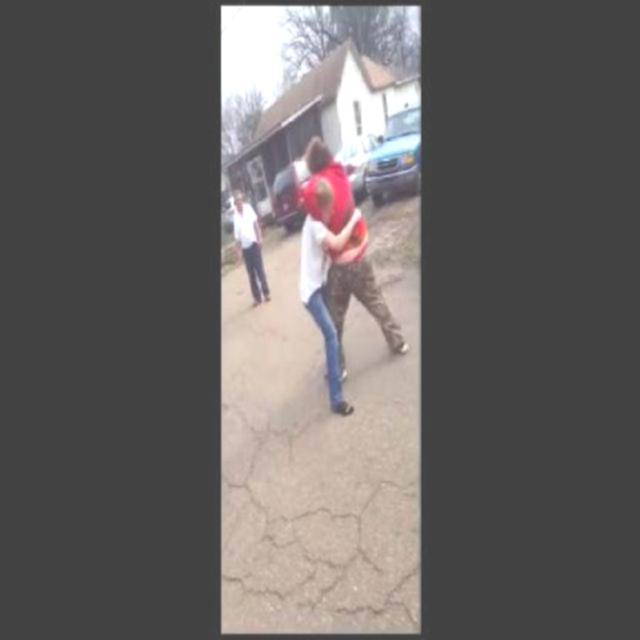fight: (294, 140, 409, 420)
